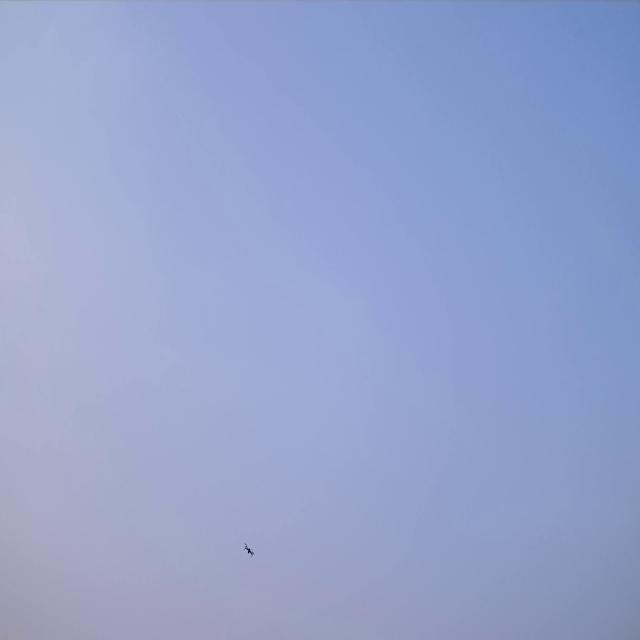UAV: (245, 544, 253, 556)
